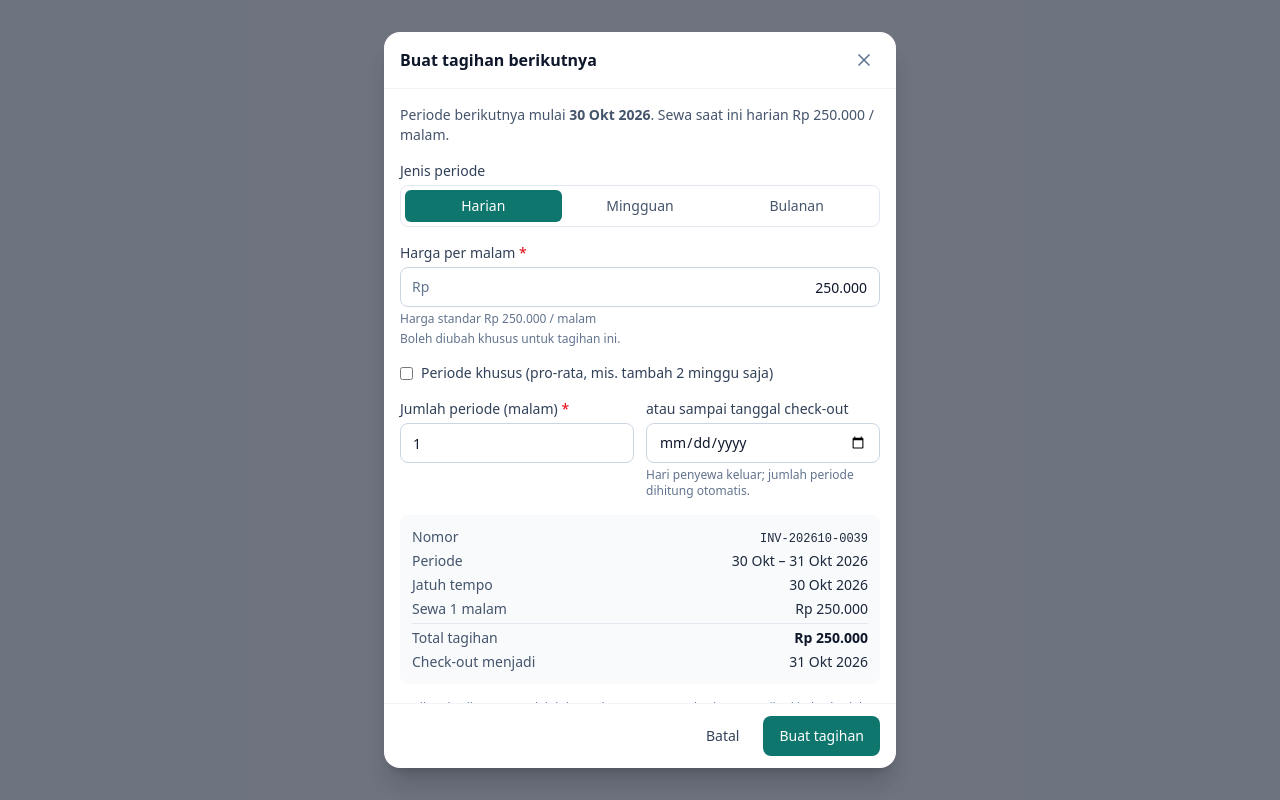
Test: Buat tagihan berikutnya: deposit when a stay switches to weekly or monthly › D1: weekly from 30 Okt with Rp 200.000 deposit received by transfer: one save writes the lease, the invoice and the deposit
The image size is (1280, 800).
Click the 2nd radio button labelled "Mingguan" at (640, 206), box [562,190,718,222]
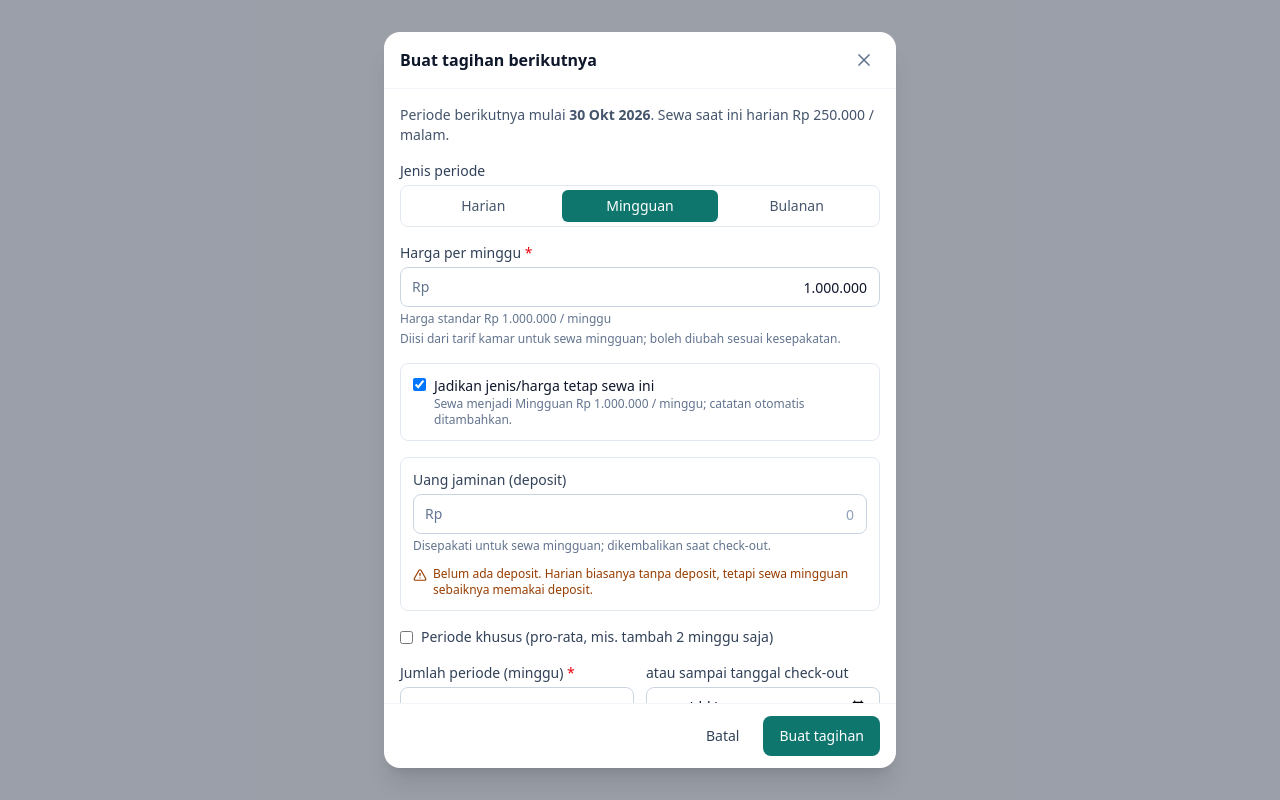
Type "200000" into the field labelled "Uang jaminan (deposit)" at (640, 514), box [413,494,867,534]
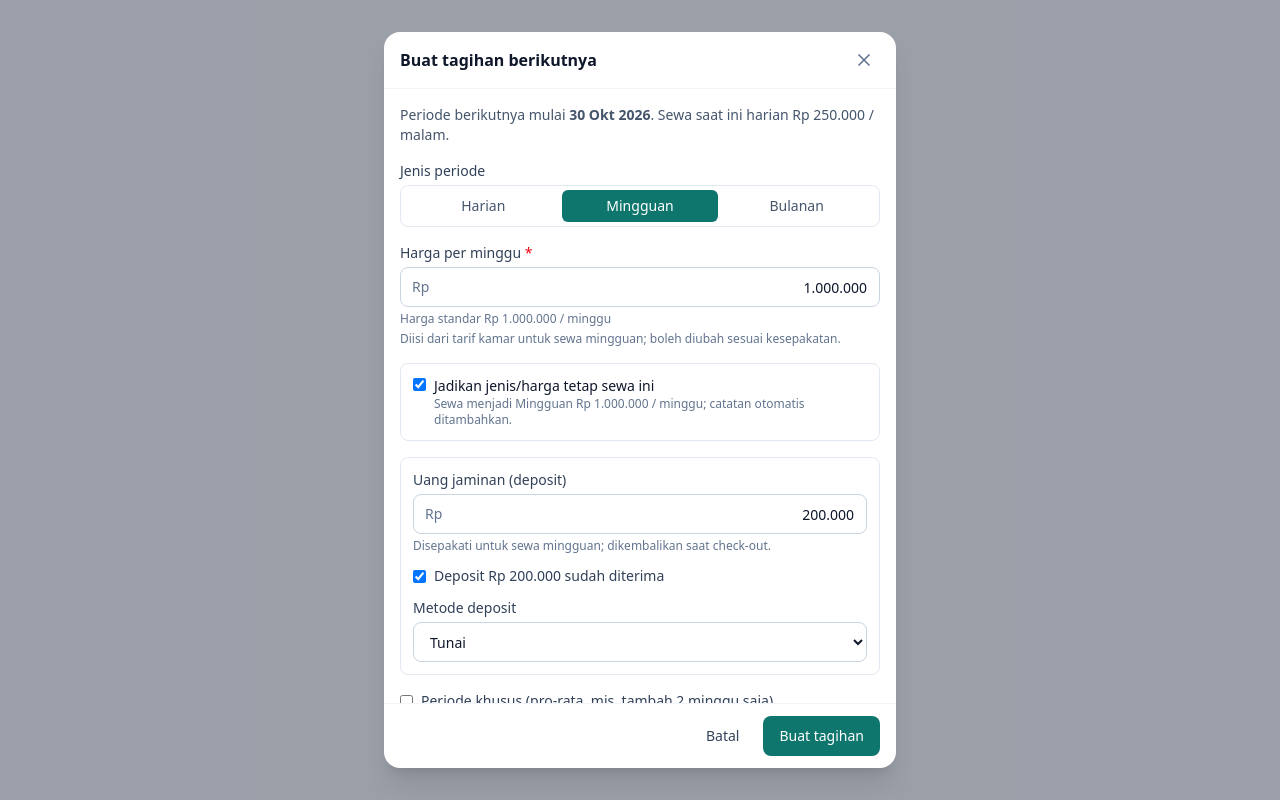
Now the checkbox labelled "Deposit Rp 200.000 sudah diterima" is checked, box [413,570,426,582]
Select "Transfer" in the dropdown labelled "Metode deposit" at (640, 642), box [413,622,867,662]
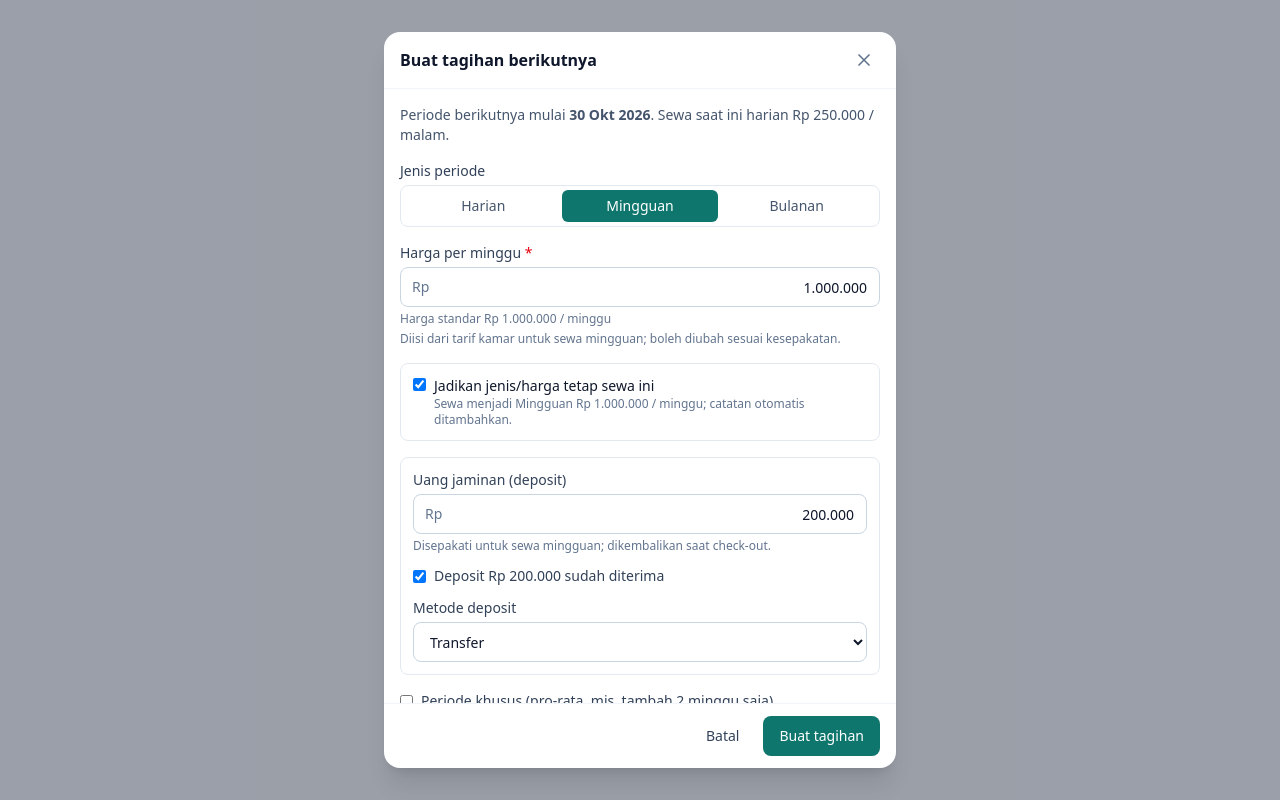
Click the button "Buat tagihan" at (822, 736), box [763,716,880,756]
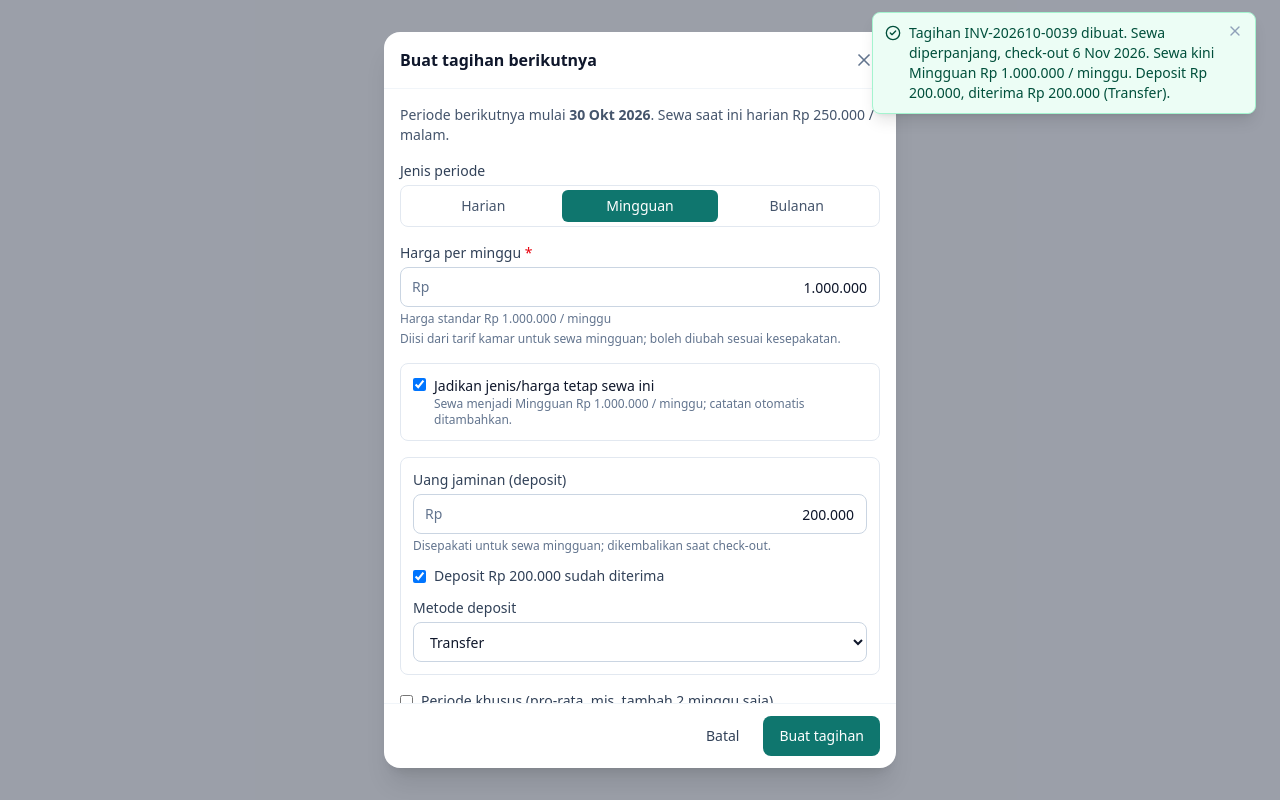
Now the text "Sewa kini Mingguan Rp 1.000.000 / minggu. Deposit Rp 200.000, diterima Rp 200.000 (Transfer)." is shown, box [909,23,1214,102]
